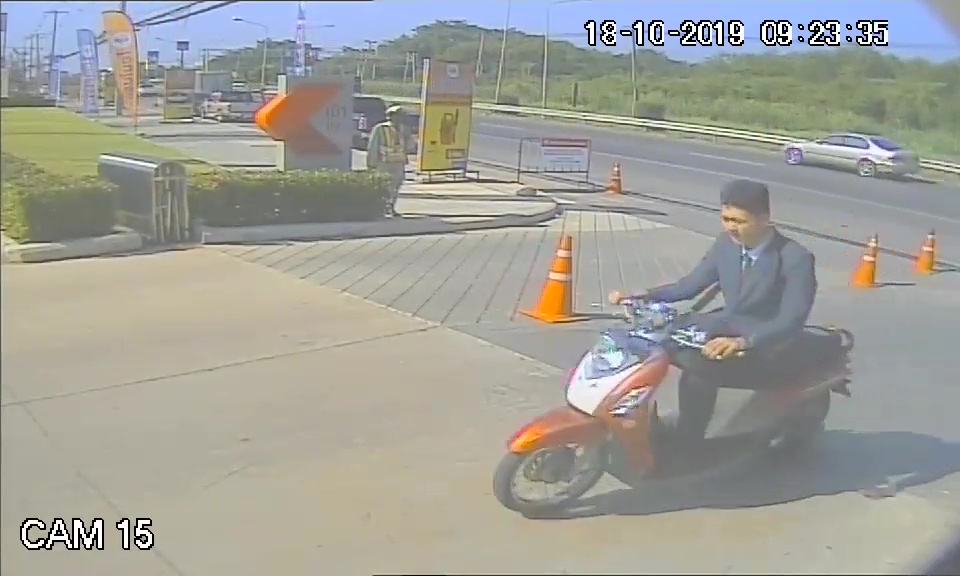motorcycle: (491, 297, 859, 518)
